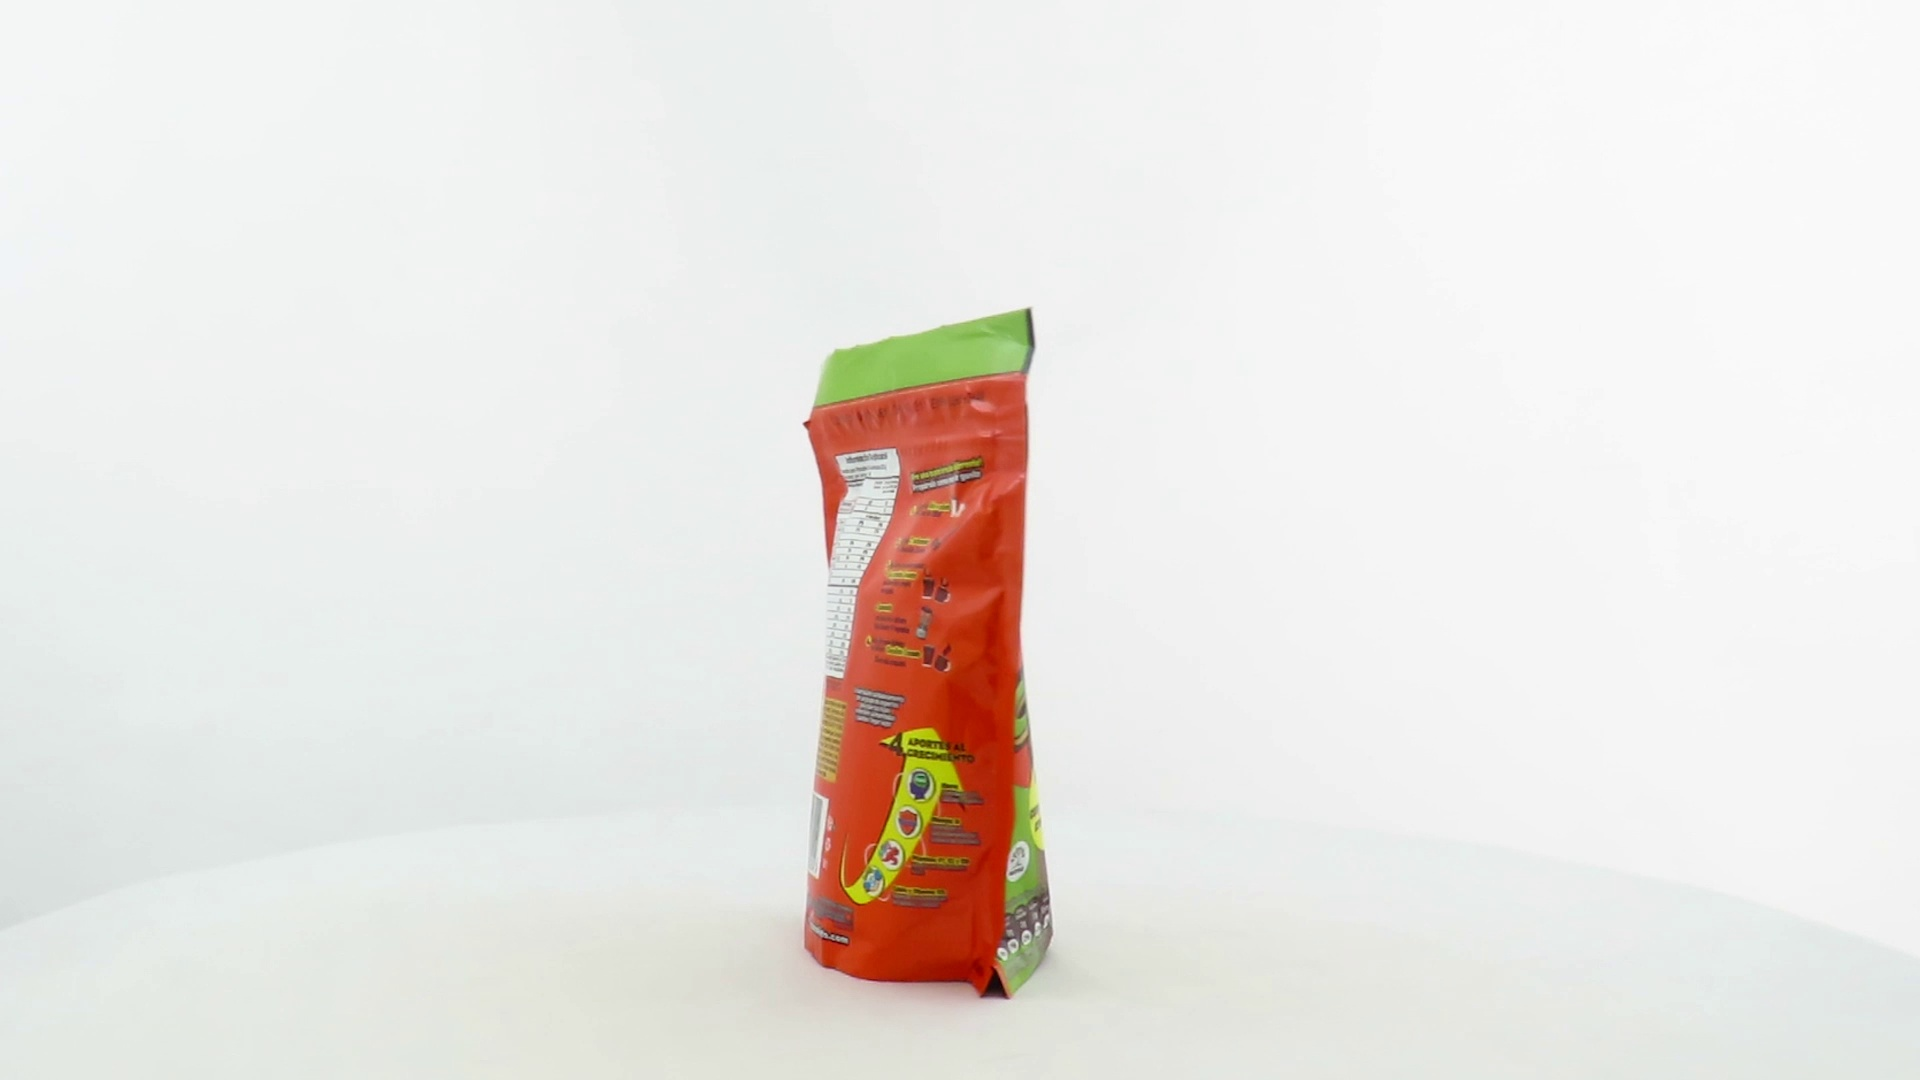COL0170102DYP10000: (798, 303, 1059, 1006)
